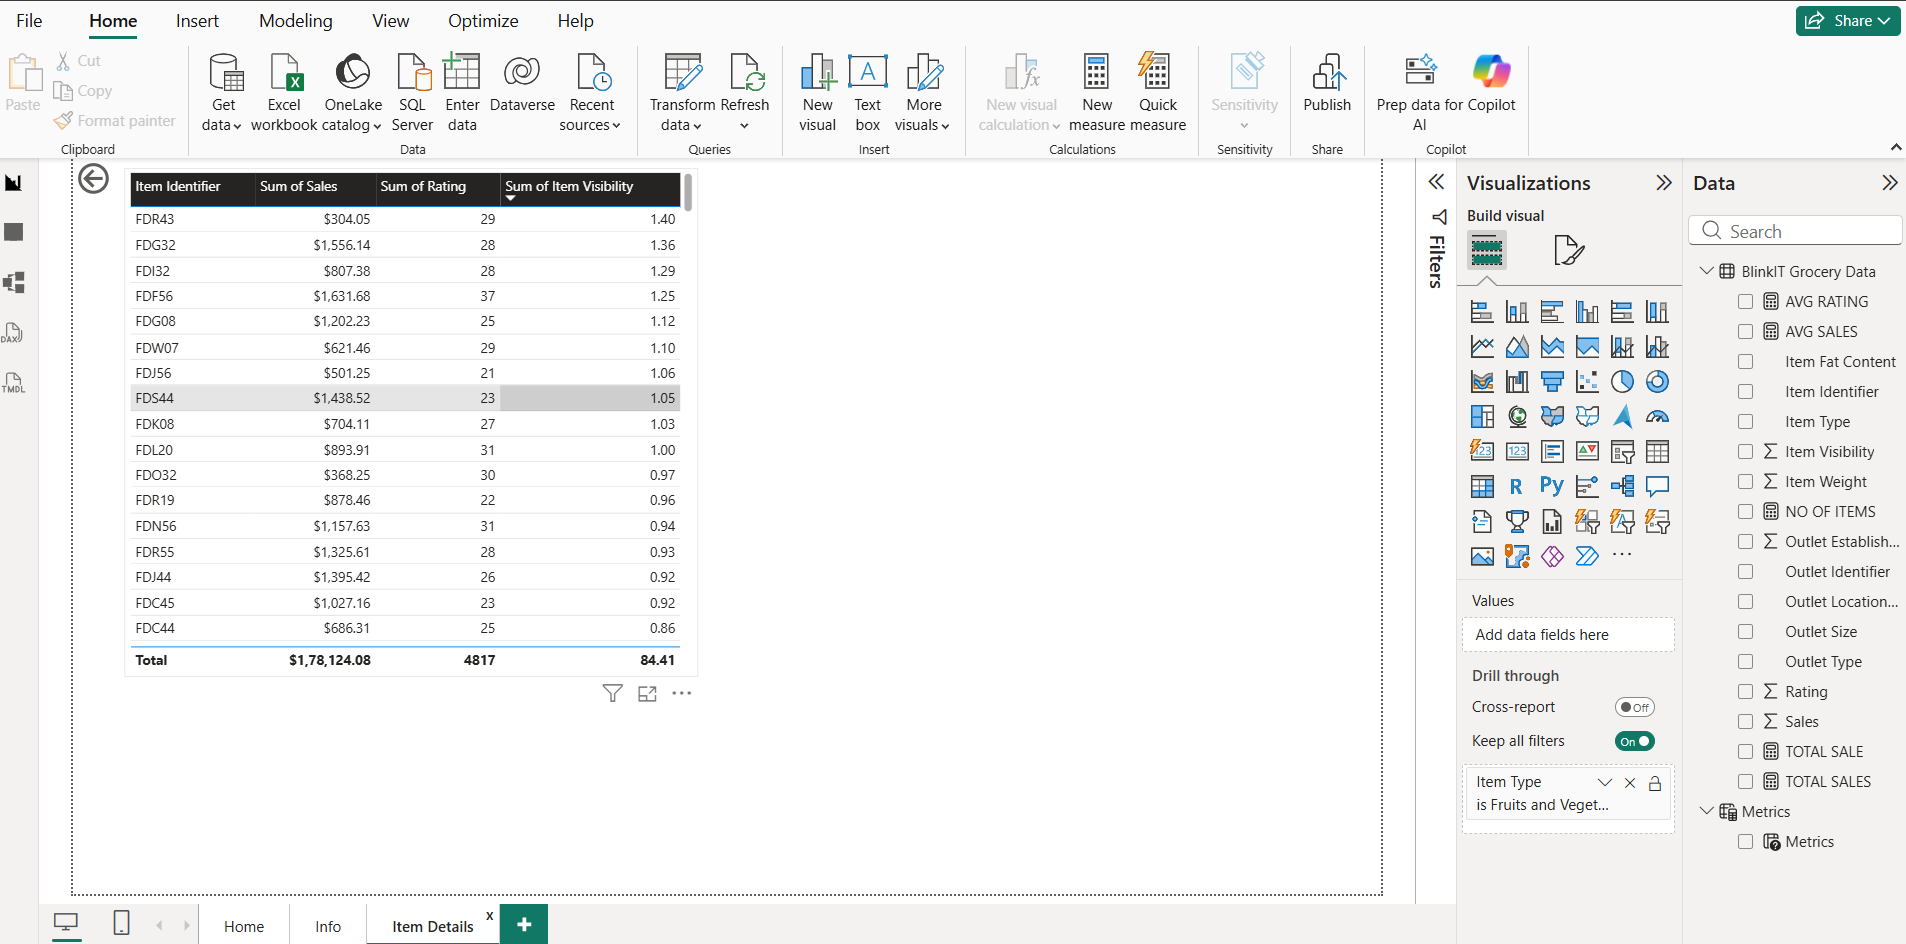

What the dashboard file says about the page in this screenshot:
{"tool":"powerbi","page":{"name":"Item Details","canvas":[1280,720],"ordinal":2},"visuals":[{"type":"tableEx","fields":{"Values":["BlinkIT Grocery Data.Item Identifier","Sum(BlinkIT Grocery Data.Sales)","Sum(BlinkIT Grocery Data.Rating)","Sum(BlinkIT Grocery Data.Item Visibility)"]},"box":[50.1,9.8,561.3,497.7],"z":0},{"type":"actionButton","box":[0,0,100,40],"z":1000}]}

Visuals, with their boxes on the page's 1280x720 design canvas (x1, y1, x2, y2). These are canvas units, not pixel positions in the 1906x944 screenshot, which may show the page scaled, cropped or inside an application window:
tableEx - BlinkIT Grocery Data.Item Identifier x Sum(BlinkIT Grocery Data.Sales): {"left": 50, "top": 10, "right": 611, "bottom": 508}
actionButton: {"left": 0, "top": 0, "right": 100, "bottom": 40}
